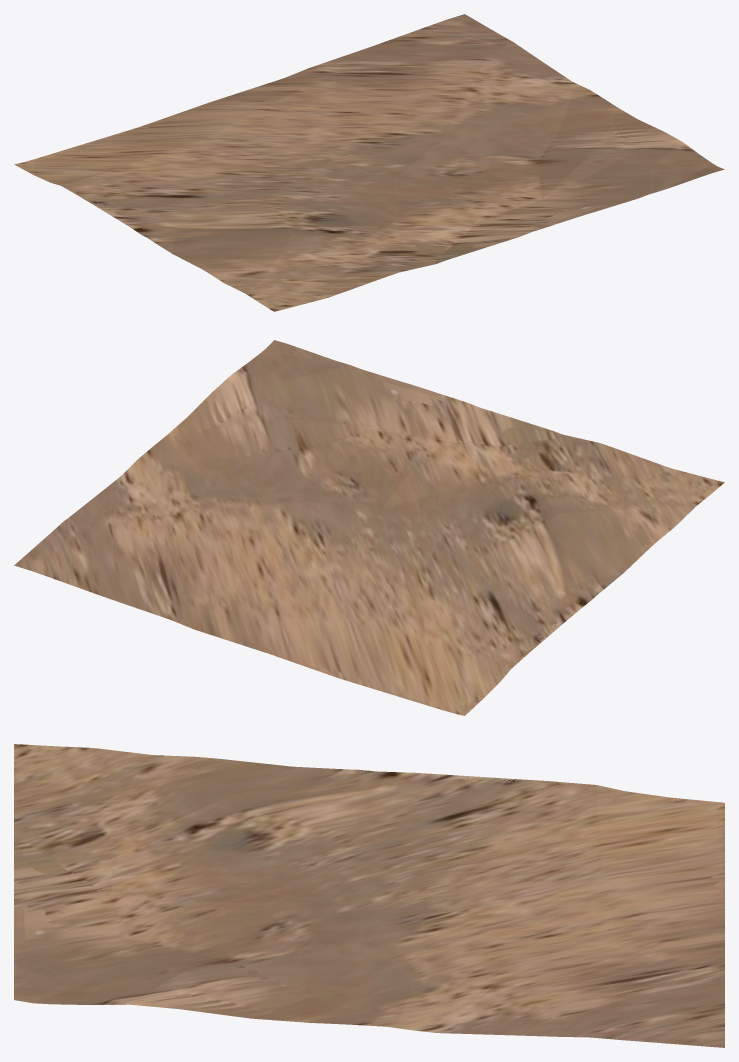
3 renders of one model, top to bottom at view 1: azimuth 30°, elevation 25°; view 2: azimuth 150°, elevation 25°; view 3: azimuth 270°, elevation 25°, orthographic. The views are drawn at different scales.
Size of the model in its own units: 2.09 by 0.3352 by 2.09.
Materials: 3 (3 with a texture image).
